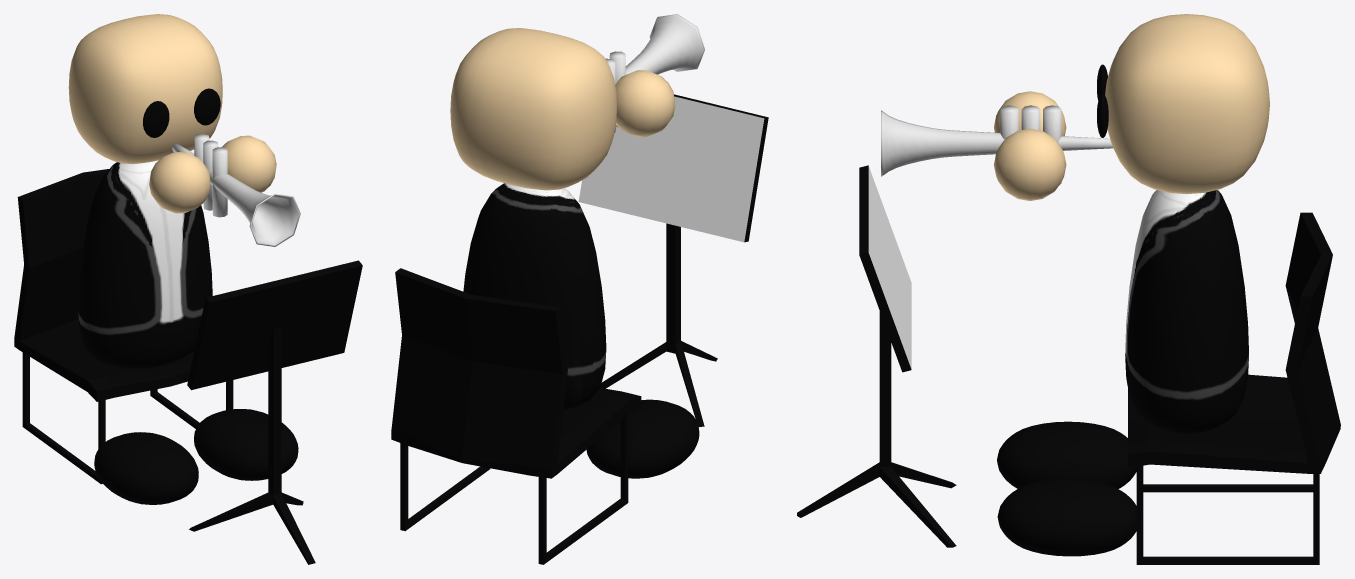
File: trumpet.fbx
The picture shows the model from 3 angles, left to right: view 1: azimuth 30°, elevation 25°; view 2: azimuth 150°, elevation 25°; view 3: azimuth 270°, elevation 25°; orthographic projection. The views are drawn at different scales.
Visible parts, largest first — view 1: trumpet; view 2: trumpet; view 3: trumpet.
Part boxes in pixels (x1,y1,x2,y2): trumpet: (14,14,362,564); trumpet: (391,14,768,564); trumpet: (797,14,1340,564).
Bounding box in the file's own units: 156 × 350 × 345.
